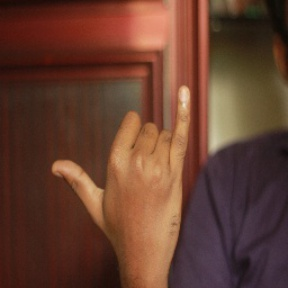J: (44, 83, 192, 248)
